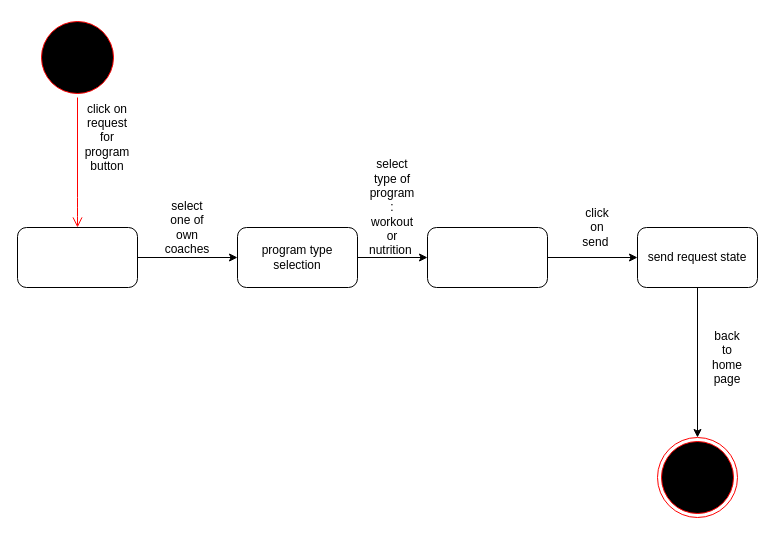
The diagram is 775 pixels wide and 535 high, and some of its shapes have lost their labels. Here are the shapes that lost their labels. From the top down, the box of each, then its label:
(16, 226, 138, 288): coach select State
(426, 226, 548, 288): add information
